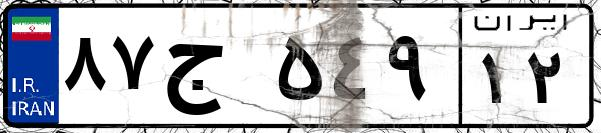1: (475, 38, 525, 113)
2: (525, 38, 570, 115)
4: (330, 28, 385, 110)
5: (270, 28, 330, 110)
7: (110, 28, 158, 98)
8: (57, 26, 110, 100)
9: (385, 28, 445, 110)
ج: (158, 20, 270, 120)
